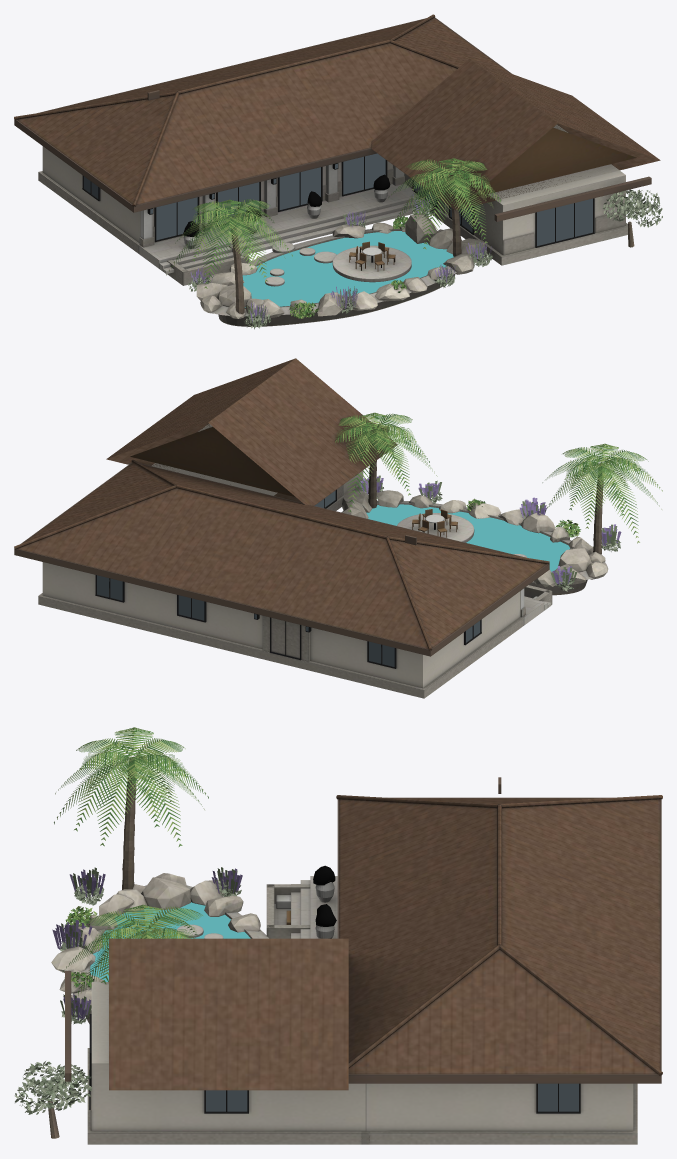
File: estate.gltf
3 views of the same model, one above another, from view 1: azimuth 30°, elevation 25°; view 2: azimuth 150°, elevation 25°; view 3: azimuth 270°, elevation 25° (orthographic). The views are drawn at different scales.
Parts seen in each view (by area): view 1: EstateVilla, EstateVilla_Foliage; view 2: EstateVilla, EstateVilla_Foliage; view 3: EstateVilla, EstateVilla_Foliage.
Part boxes in pixels (box(x1,y1,x2,y2)): EstateVilla: box(14, 14, 660, 326); EstateVilla_Foliage: box(166, 158, 662, 329); EstateVilla: box(14, 358, 608, 698); EstateVilla_Foliage: box(335, 412, 662, 591); EstateVilla: box(47, 759, 662, 1144); EstateVilla_Foliage: box(14, 727, 336, 1114).
Size of the model in its own units: 34.47 by 9.71 by 30.31.
6 materials, 1 textured.
